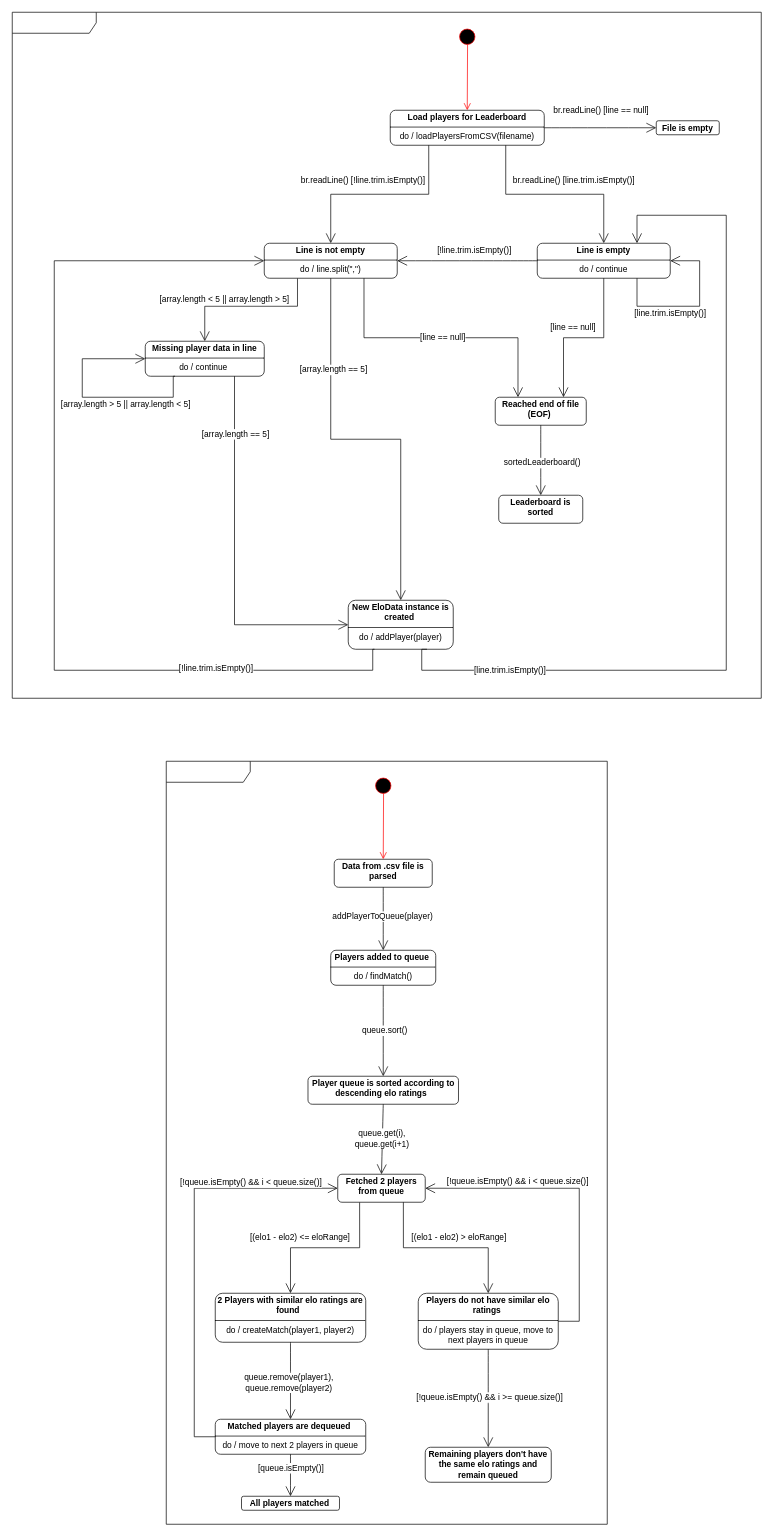
The diagram is 774 pixels wide and 1537 high, and some of its shapes have lost their labels. The shapes that lost their labels are listed below. From the top down, each one's box as (x1, y1, x2, y2) in pixels, then its label:
(12, 12, 761, 698): sm Leaderboard
(166, 761, 607, 1524): sm Matchmaker
